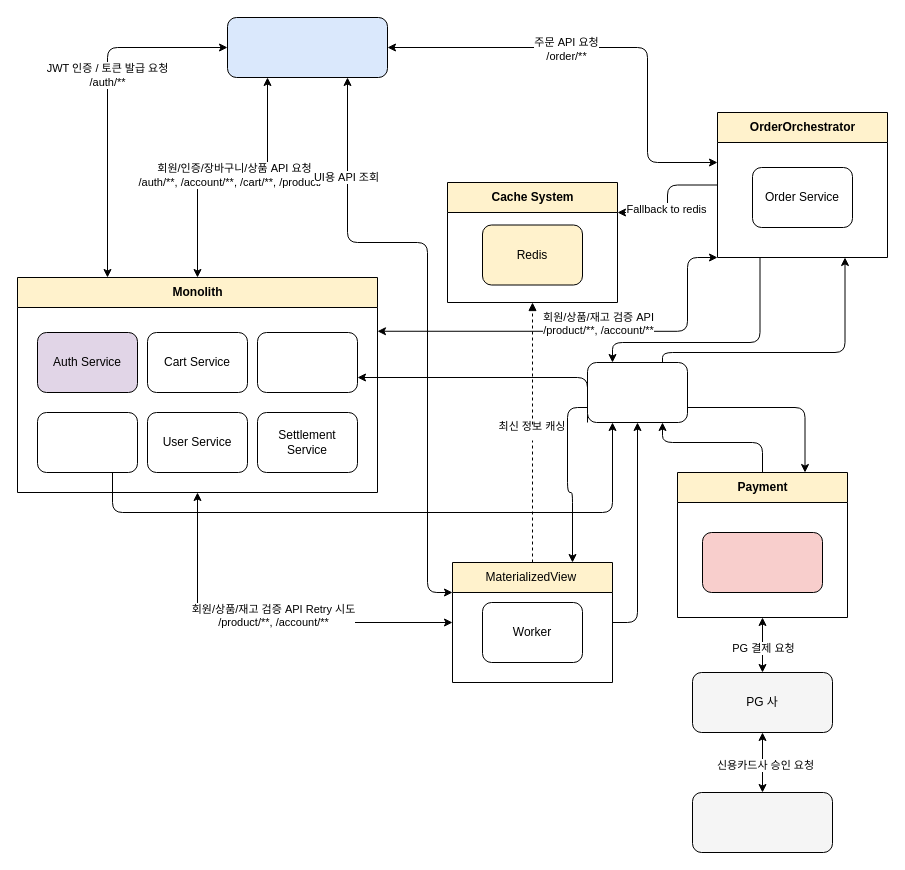
This 905x870 diagram has some shape labels left out. The centre of each missing label's shape, as x and y in pixels:
"API Gateway" goes at (307,47).
"Card 사" goes at (762,822).
"Kafka Cluster" goes at (637,392).
"Notification Service" goes at (307,362).
"Payment Service" goes at (762,562).
"Product Service" goes at (87,442).
